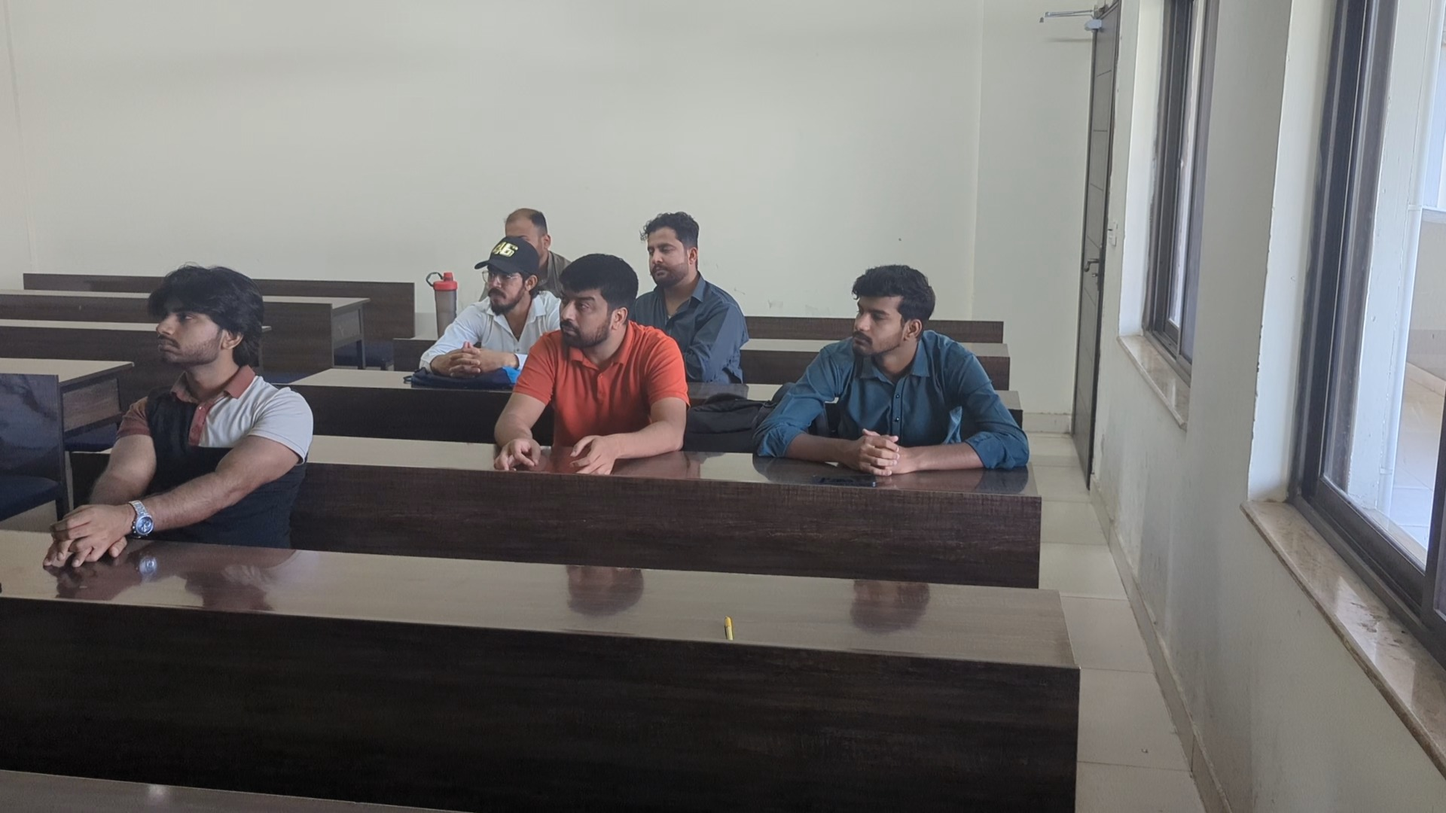look_forward: (119, 264, 268, 459), (834, 239, 954, 407), (549, 274, 681, 421), (628, 205, 720, 307), (467, 240, 538, 370)
sleep: (504, 198, 555, 264)
